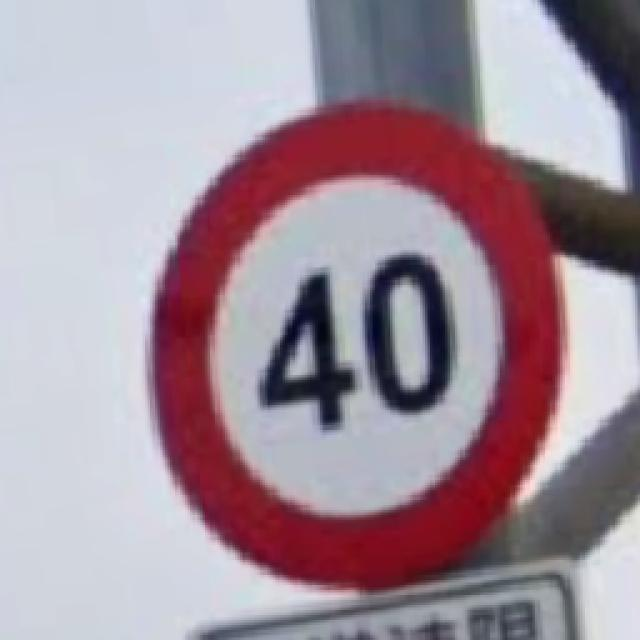Speed Limit -40-: (150, 105, 562, 588)
